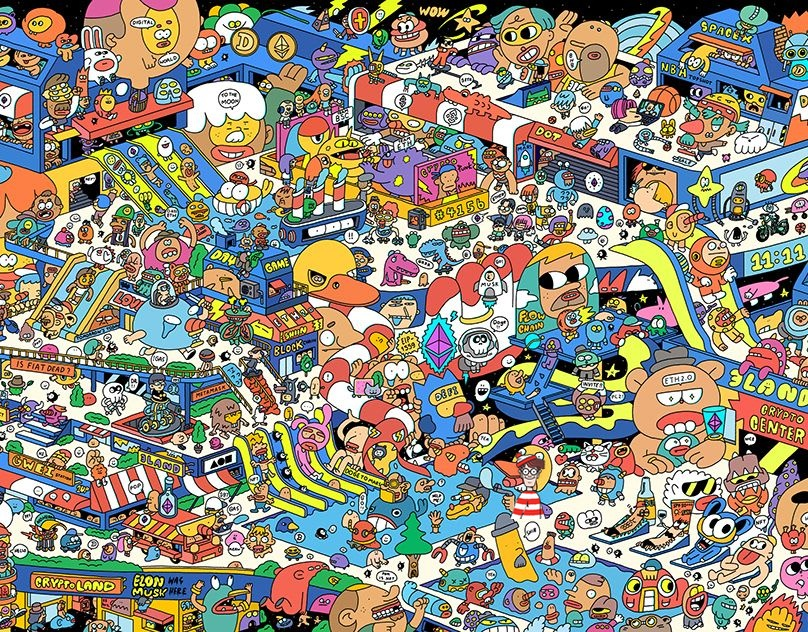waldo: (510, 452, 546, 519)
